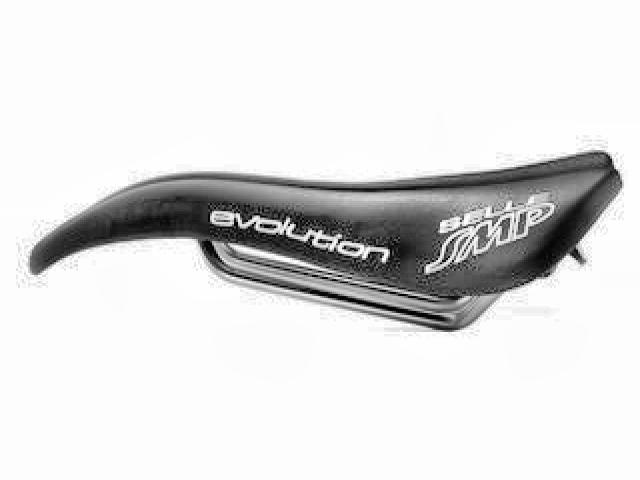saddle: (24, 147, 626, 335)
